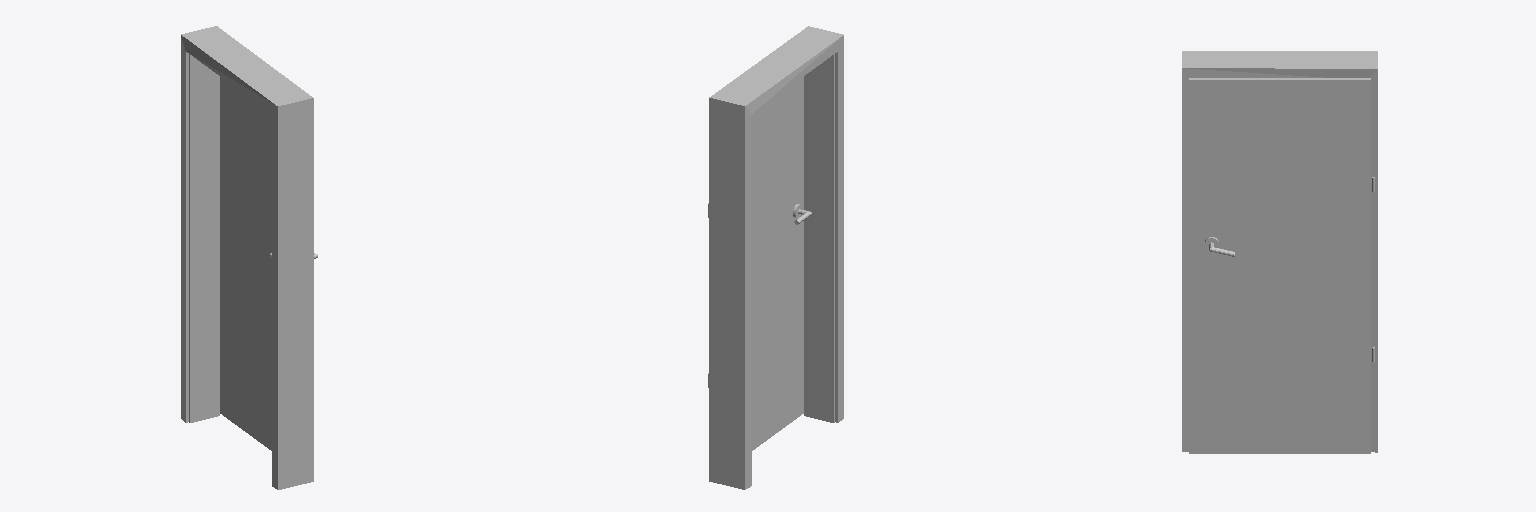
The model's file is door88.obj.
3 renders of one model, left to right at view 1: azimuth 30°, elevation 25°; view 2: azimuth 150°, elevation 25°; view 3: azimuth 270°, elevation 25°, orthographic.
Visible parts, largest first — view 1: Cylinder.005, Cylinder.001; view 2: Cylinder.005, Cylinder.001; view 3: Cylinder.001, Cylinder.005.
Part boxes in pixels (x1,y1,x2,y2): Cylinder.005: (181,26,313,489); Cylinder.001: (220,77,271,450); Cylinder.005: (708,26,843,489); Cylinder.001: (708,77,803,450); Cylinder.001: (1189,78,1374,453); Cylinder.005: (1182,51,1377,452).
Bounding box in the file's own units: 0.3039 × 2.05 × 0.95.